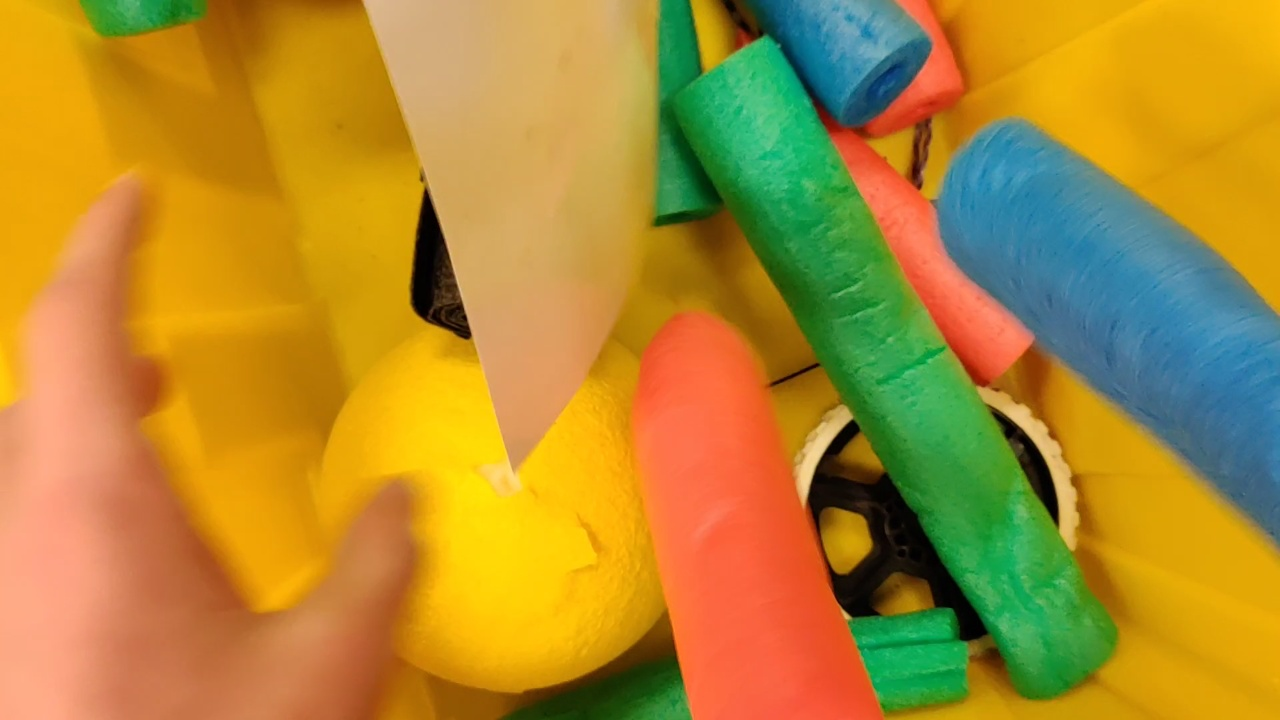Ball: (320, 330, 666, 688)
